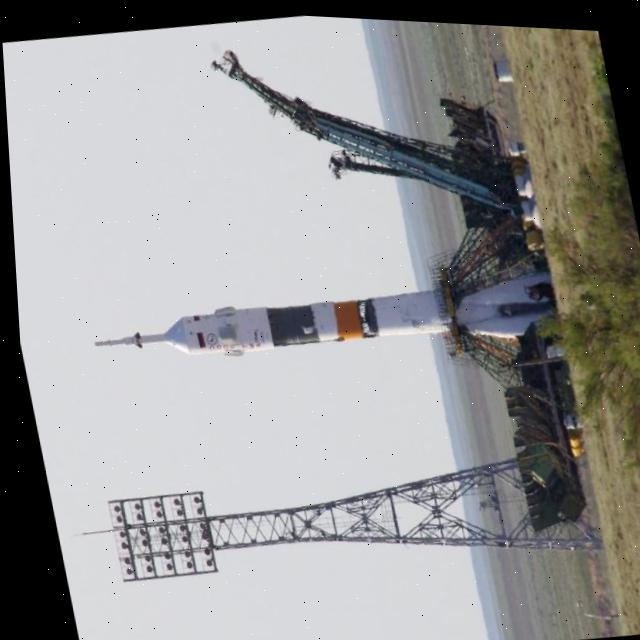missile: (79, 246, 543, 386)
